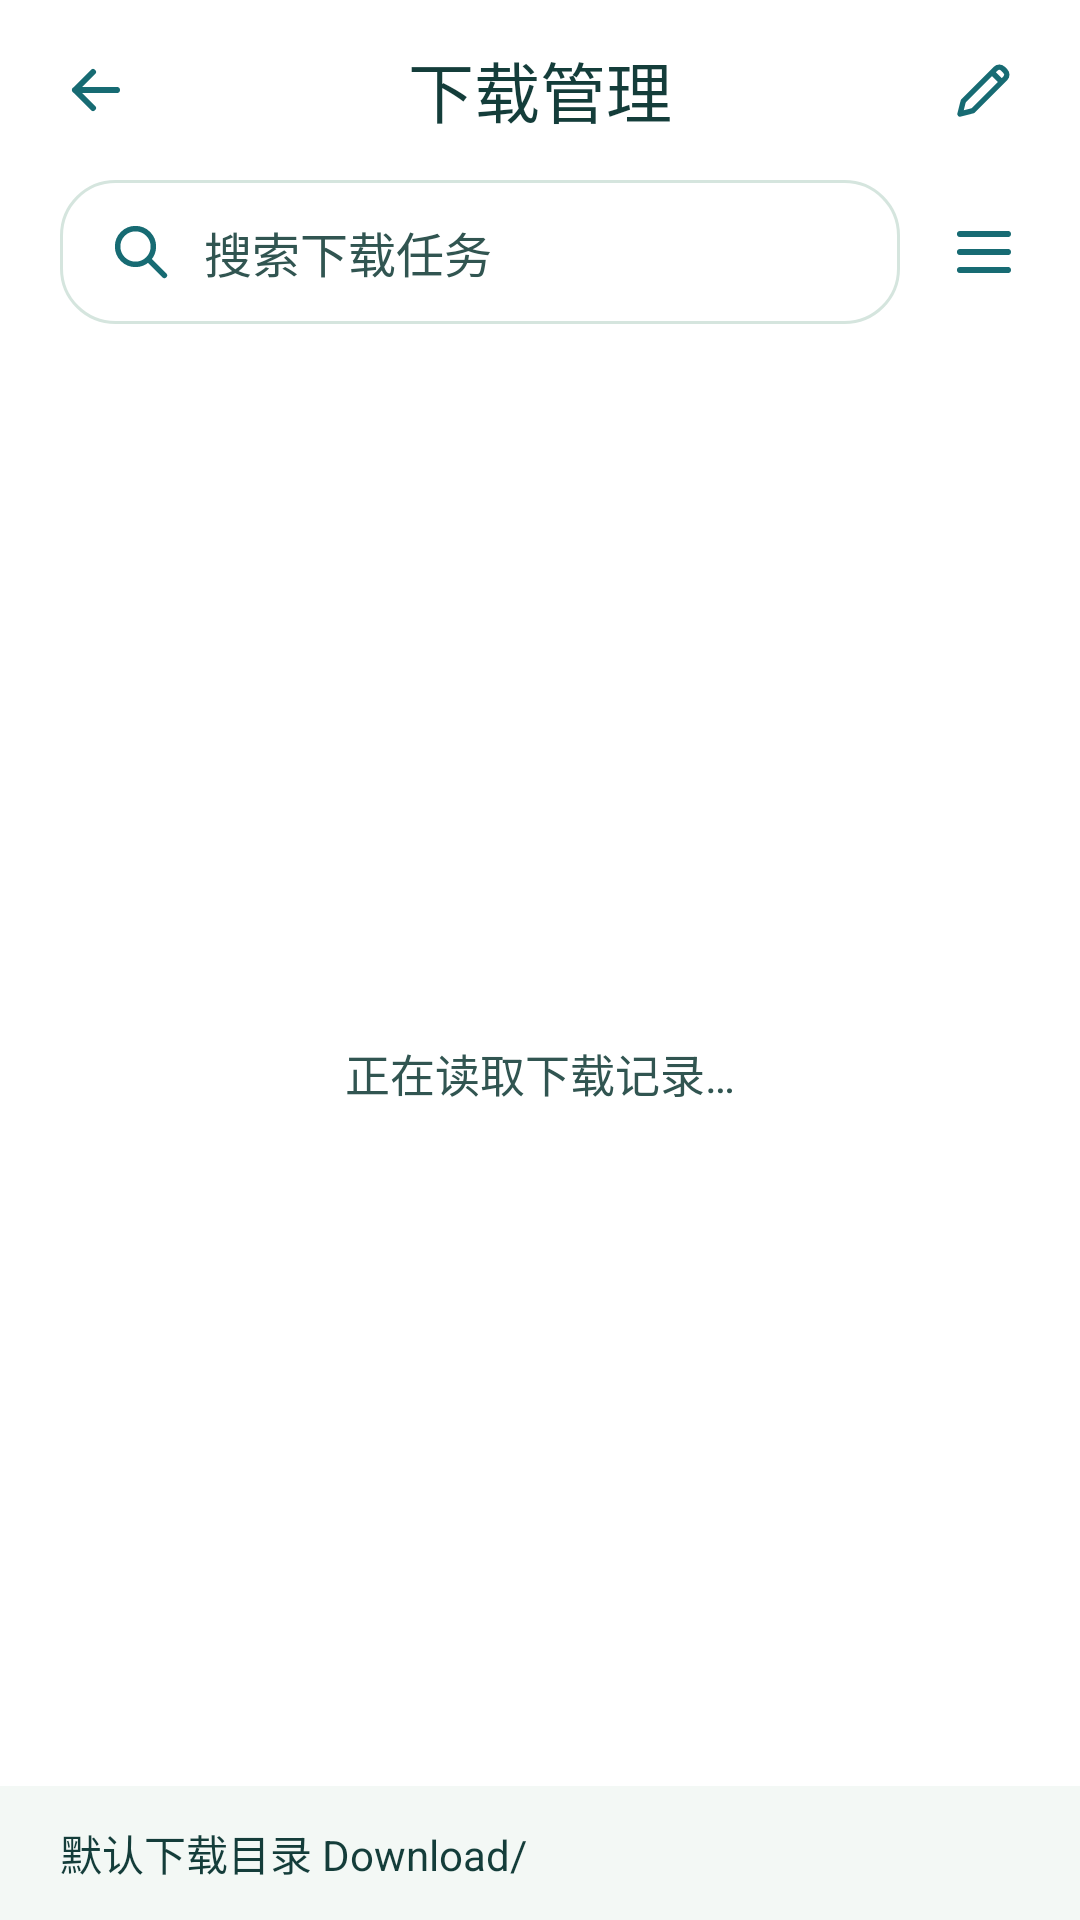

Icon bounding boxes for this 1080 x 1920 phone screenshot, format (x1, y1, x2, y2):
下载操作: (957, 231, 1011, 273)
后退: (72, 69, 120, 111)
编辑下载记录: (957, 64, 1010, 117)
